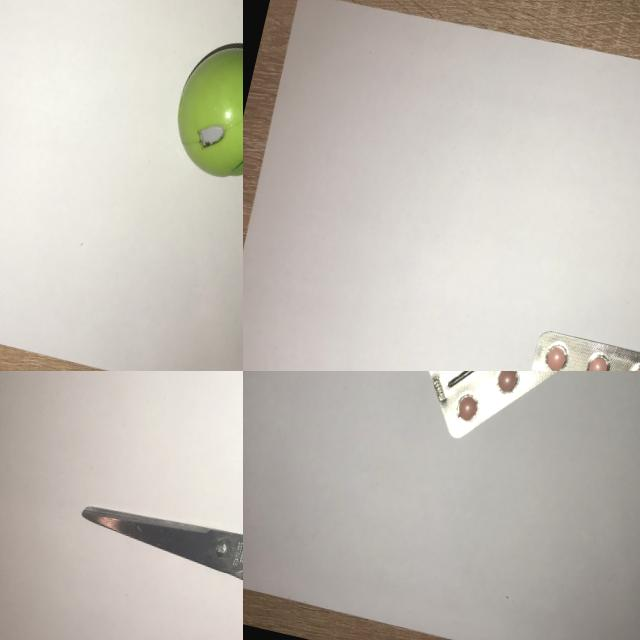scissors: (51, 438, 243, 640)
tablets: (397, 371, 640, 480)
toy: (158, 26, 243, 195)
